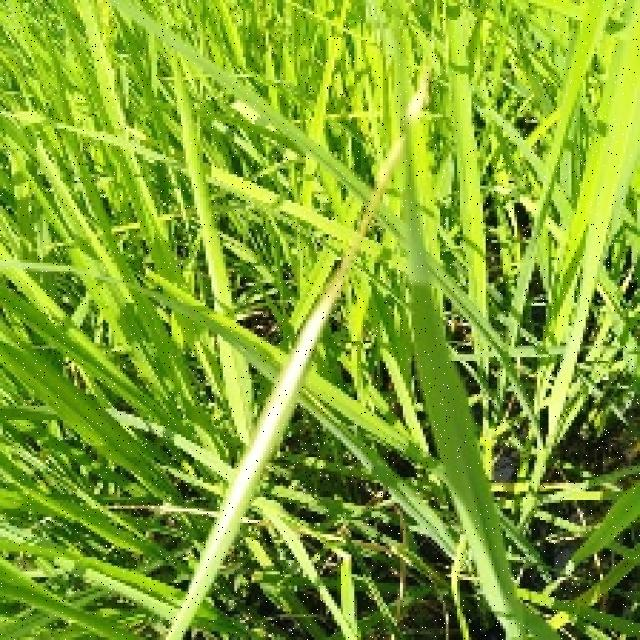health: (0, 0, 637, 351)
